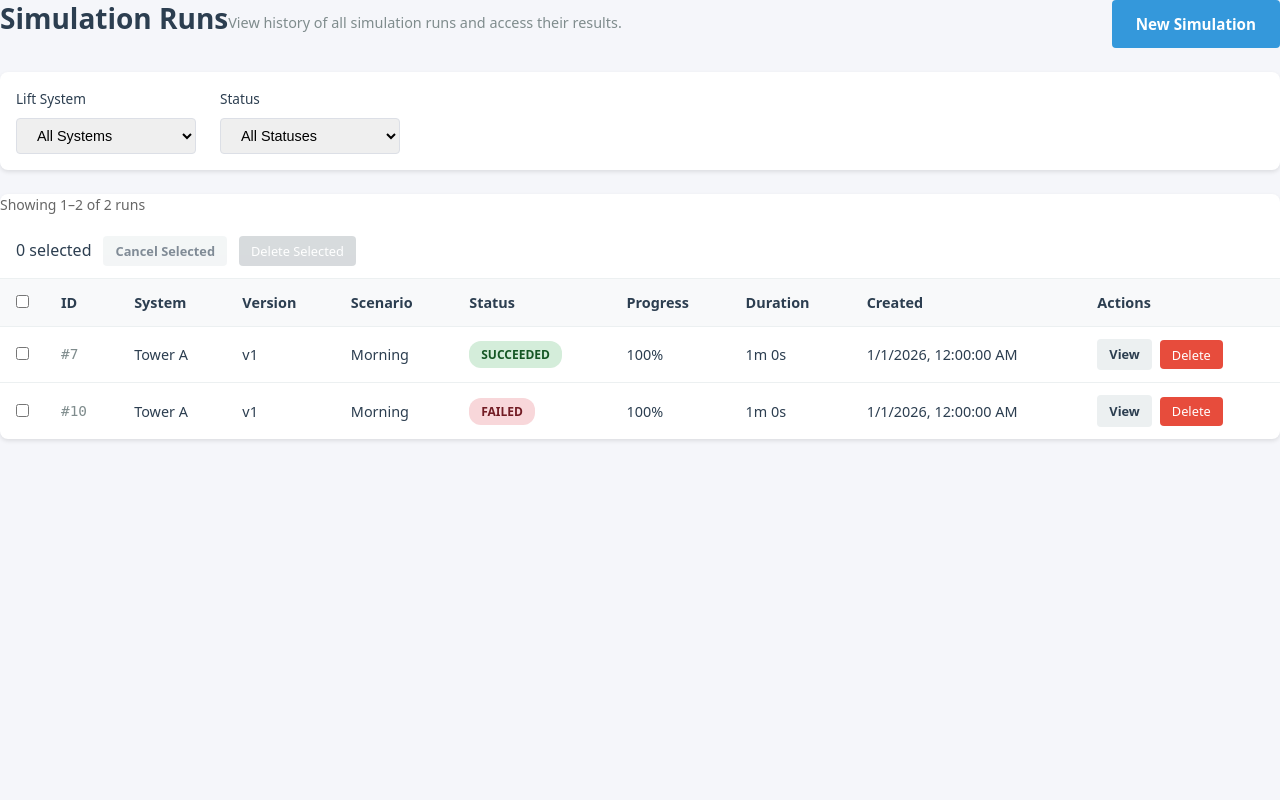
Test case: SimulationRuns delete action › bulk deletes selected completed runs and reports partial failures
This screenshot has width=1280, height=800.
Check: the text "#7" is shown, box [45,326,118,383]
Step 1. Click the checkbox named "Select all visible runs" → click(22, 301), box [16,295,29,308]
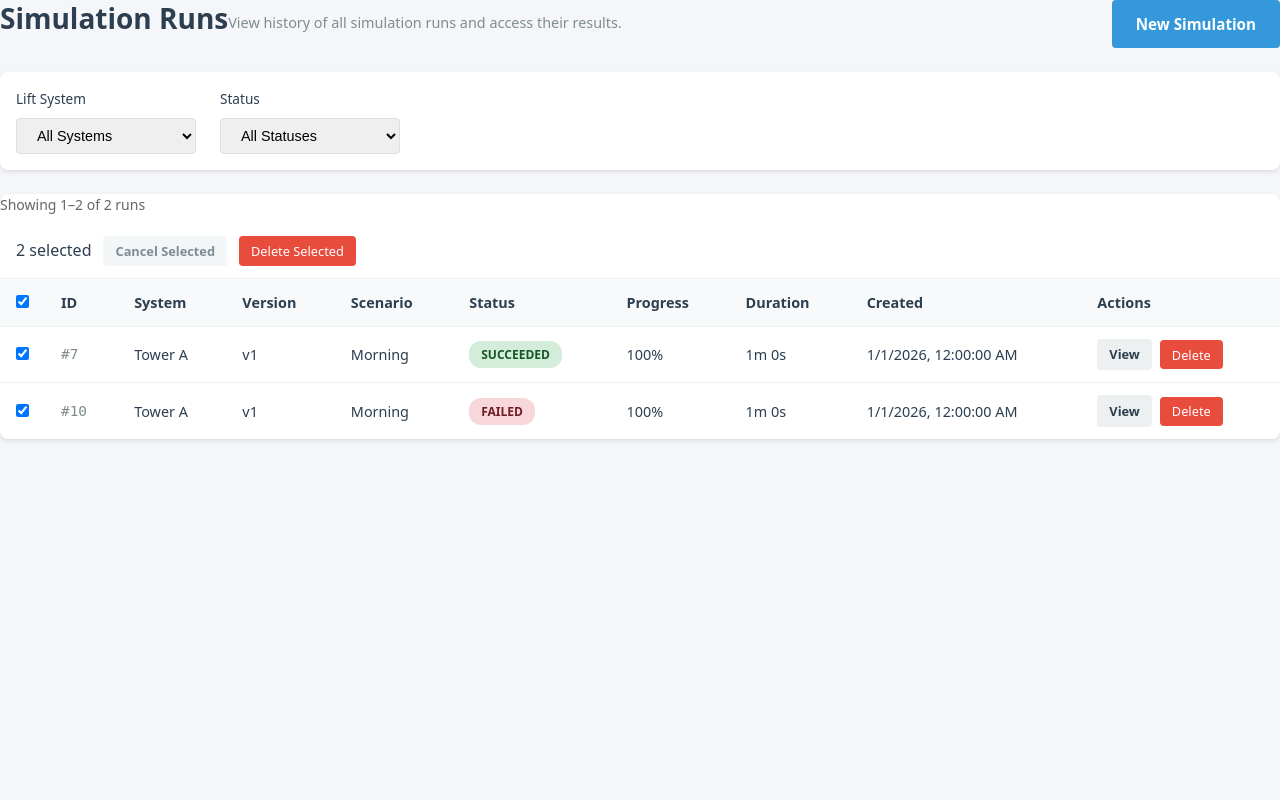
Step 2. Click the button "Delete Selected" → click(297, 251), box [239,236,356,266]
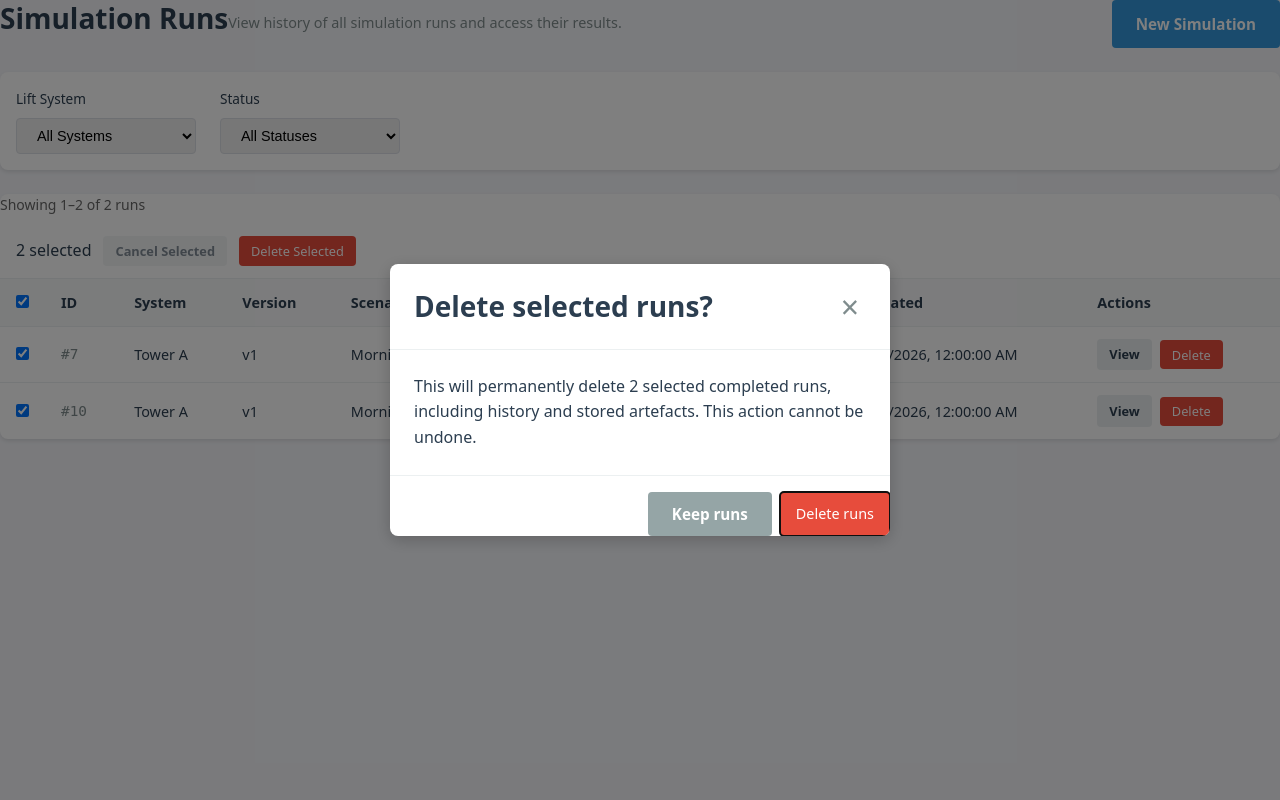
Step 3. Click the button "Delete runs" → click(835, 514), box [780,492,890,536]
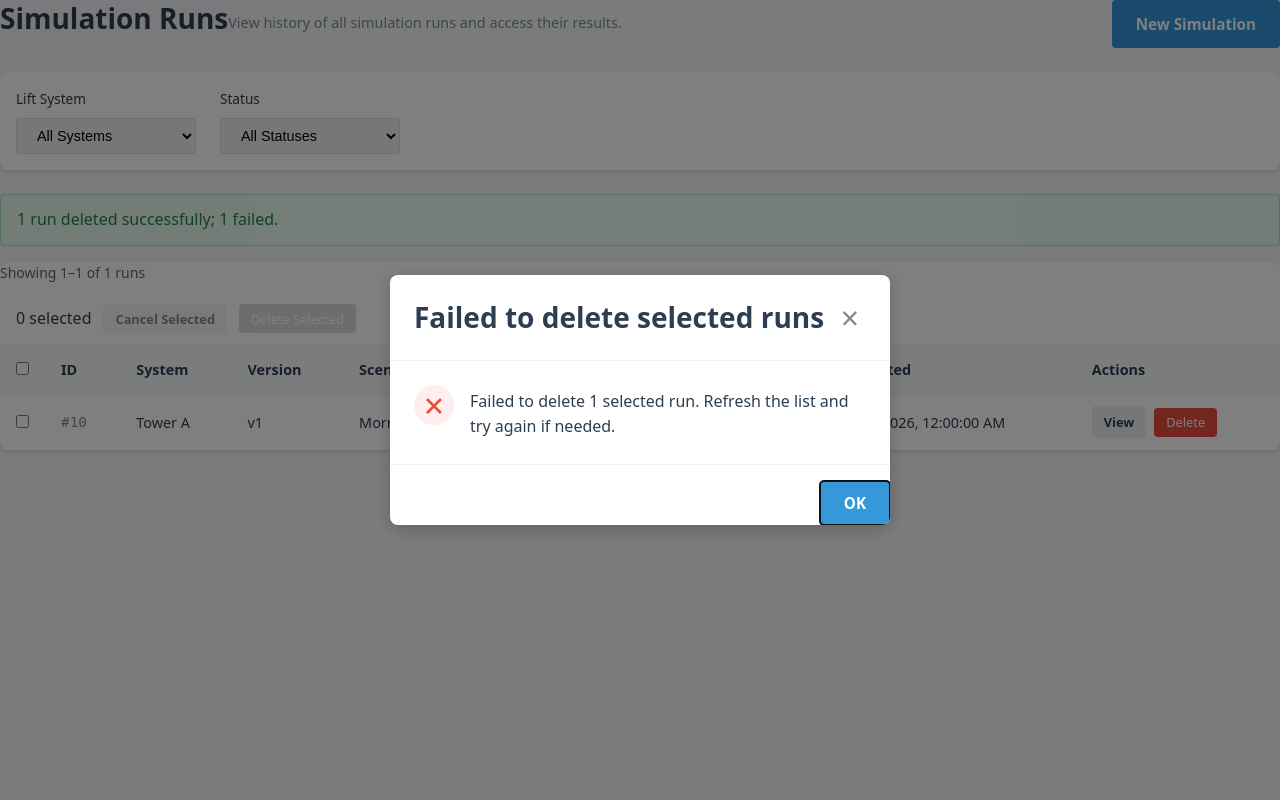
Check: the message reads "1 run deleted successfully; 1 failed.", box [17,208,278,230]
Check: the text "Failed to delete 1 selected run" is shown, box [470,390,848,437]
